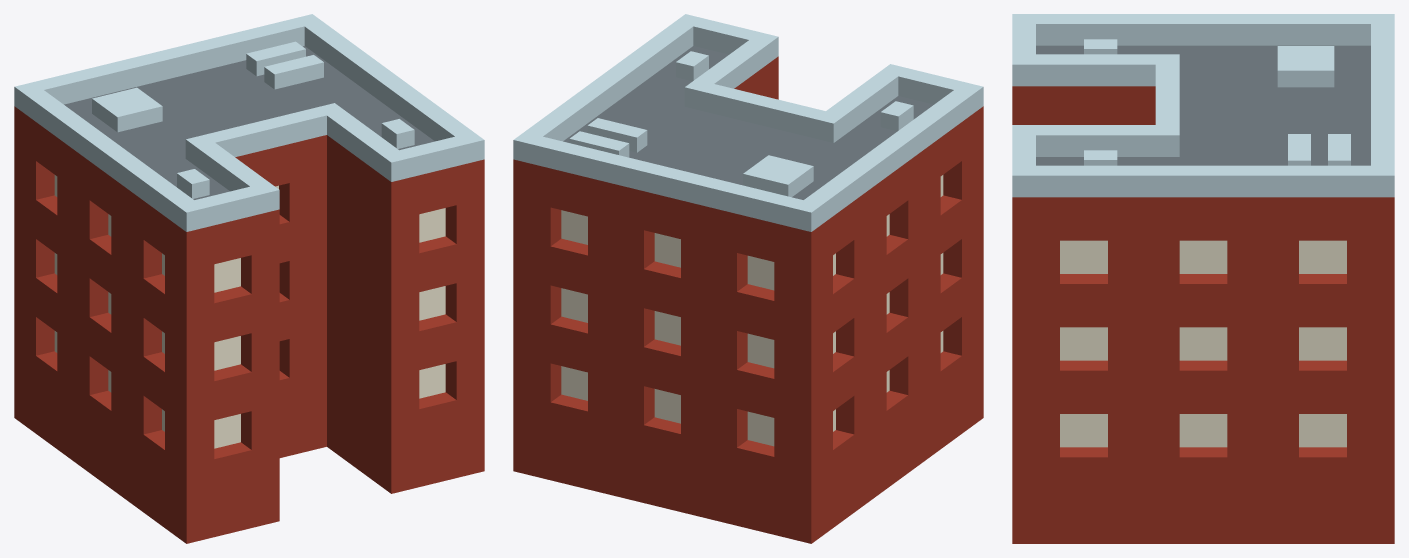
File: Building_5_Extra (Red).obj
The picture shows the model from 3 angles, left to right: view 1: azimuth 30°, elevation 25°; view 2: azimuth 150°, elevation 25°; view 3: azimuth 270°, elevation 25°; orthographic projection. The views are drawn at different scales.
Parts seen in each view (by area): view 1: Building_5_Extra_(Red); view 2: Building_5_Extra_(Red); view 3: Building_5_Extra_(Red).
Part boxes in pixels (x1,y1,x2,y2): Building_5_Extra_(Red): (14, 14, 484, 543); Building_5_Extra_(Red): (513, 14, 983, 543); Building_5_Extra_(Red): (1012, 14, 1394, 543).
Size of the model in its own units: 1.6 by 1.7 by 1.6.
